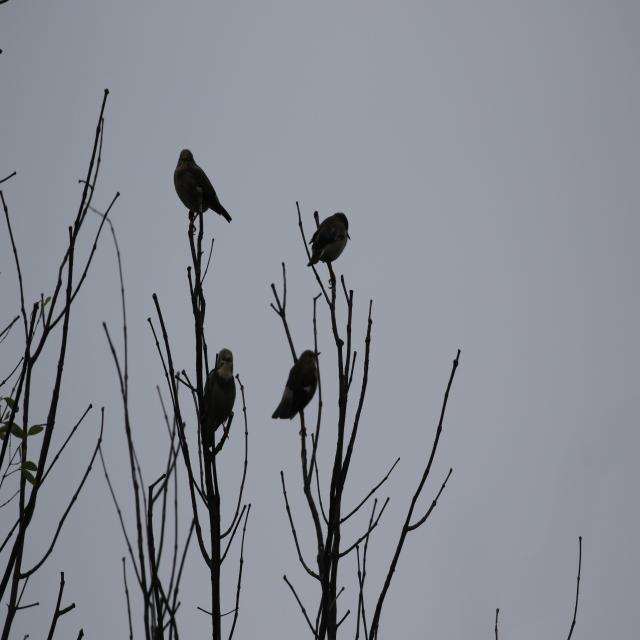bird: (174, 150, 232, 233), (272, 349, 321, 436), (198, 349, 236, 440), (307, 212, 350, 288)
